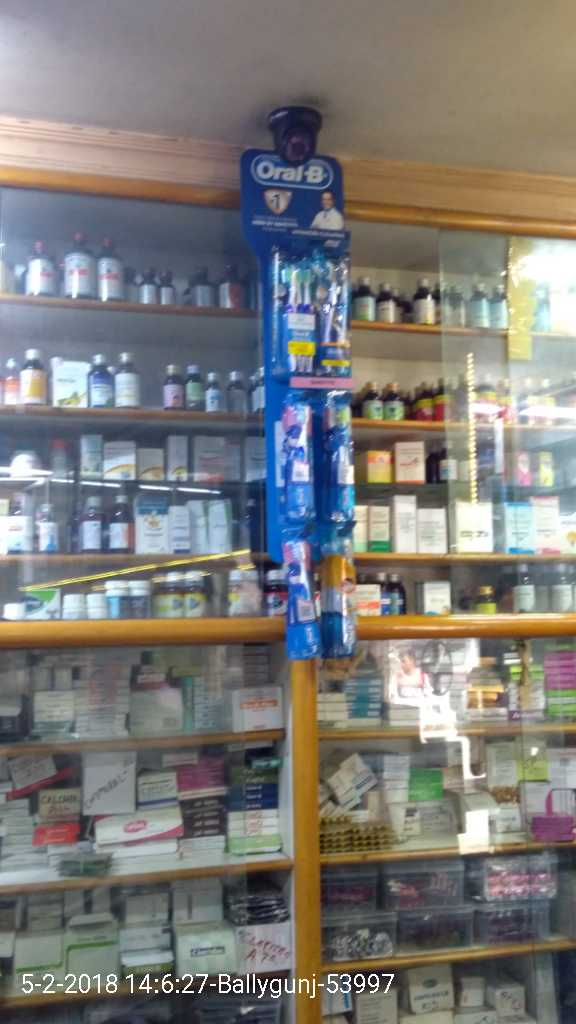oralb: (271, 247, 320, 378), (282, 388, 316, 522), (323, 389, 355, 525), (316, 248, 347, 377)
